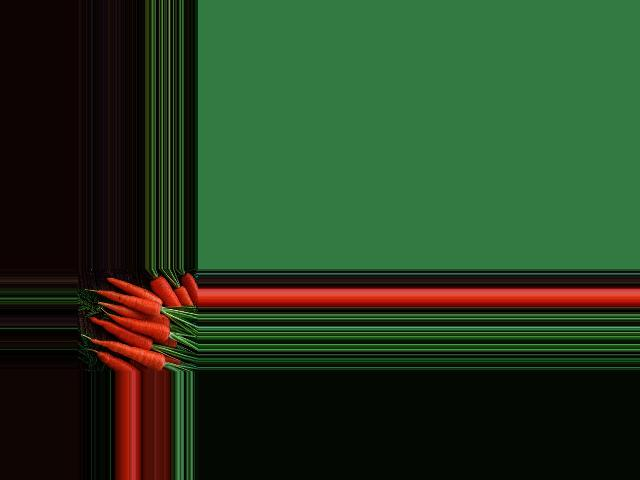carrot: (83, 344, 172, 370)
